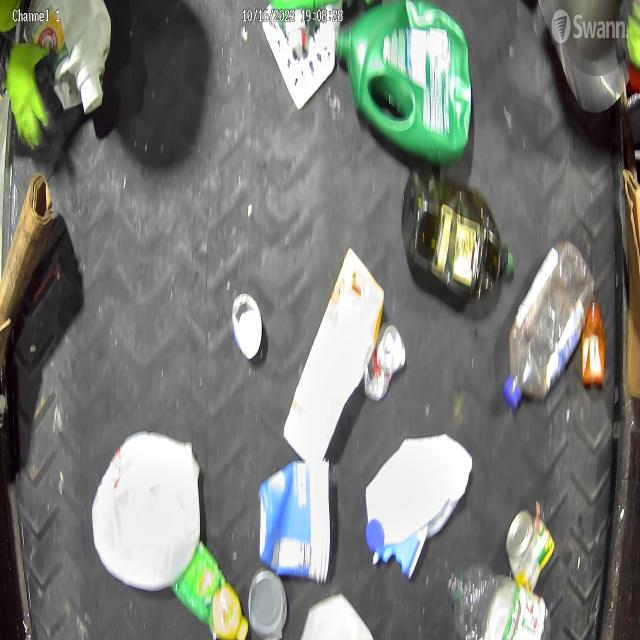can: (506, 508, 558, 589), (363, 322, 410, 402), (249, 567, 289, 640), (231, 290, 264, 368)
milk_jug: (90, 427, 204, 591), (366, 431, 473, 580), (27, 0, 114, 117)
non_white_jug: (334, 0, 474, 168), (402, 165, 516, 308)
plastic_bottle: (504, 236, 598, 412), (446, 561, 552, 640)
